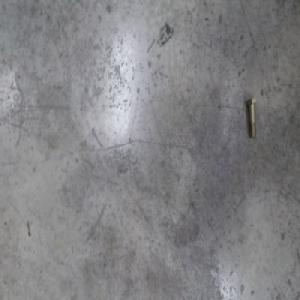Bolt: (247, 96, 258, 138)
